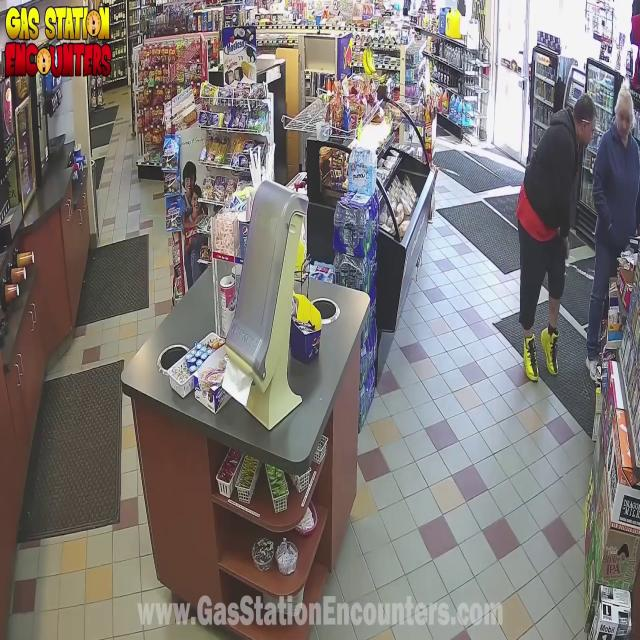normal: (500, 93, 606, 385), (590, 74, 640, 386)
